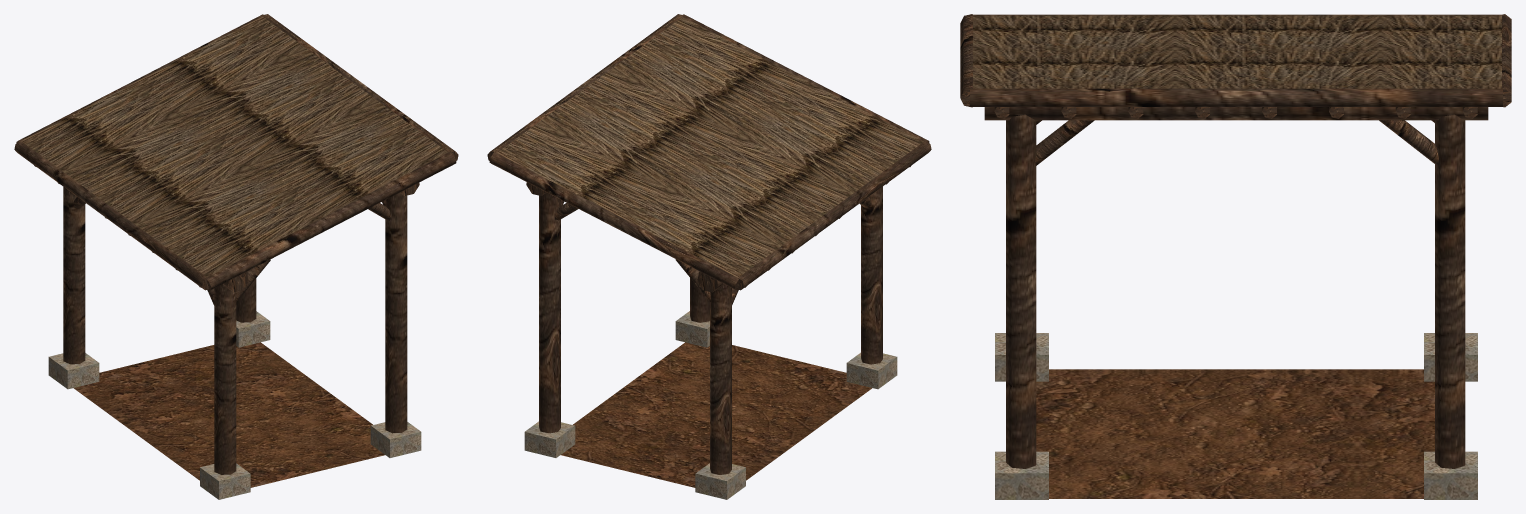
File: sideStockShelter.glb
3 renders of one model, left to right at view 1: azimuth 30°, elevation 25°; view 2: azimuth 150°, elevation 25°; view 3: azimuth 270°, elevation 25°, orthographic. The views are drawn at different scales.
Visible parts, largest first — view 1: part_3, part_0, part_2, part_1; view 2: part_3, part_0, part_2, part_1; view 3: part_0, part_2, part_3, part_1.
Part boxes in pixels (<box>): part_3: <box>21,14,452,276</box>; part_0: <box>73,342,384,487</box>; part_2: <box>14,14,458,474</box>; part_1: <box>48,311,421,499</box>; part_3: <box>493,14,923,277</box>; part_0: <box>561,342,872,487</box>; part_2: <box>487,14,931,474</box>; part_1: <box>524,311,897,499</box>; part_0: <box>1036,369,1434,498</box>; part_2: <box>960,14,1511,468</box>; part_3: <box>973,15,1501,88</box>; part_1: <box>995,333,1477,499</box>.
Size of the model in its own units: 1.87 by 2.1 by 2.45.
Materials: 4 (4 with a texture image).
